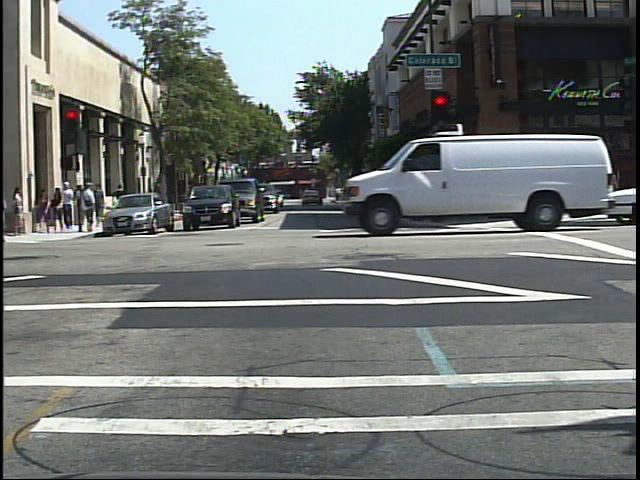person: (77, 180, 99, 235)
